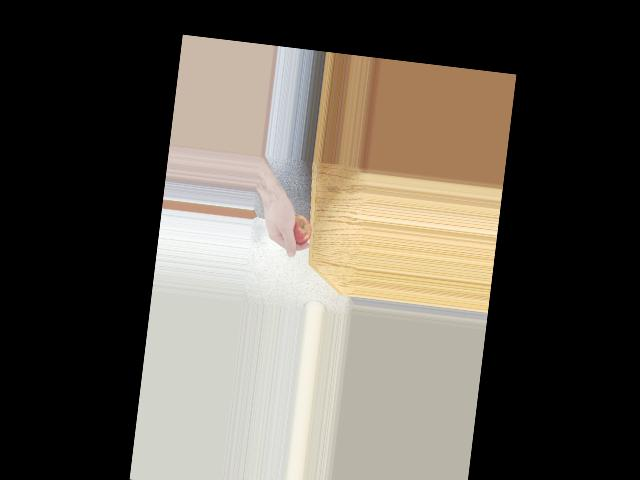apple: (279, 206, 314, 248)
